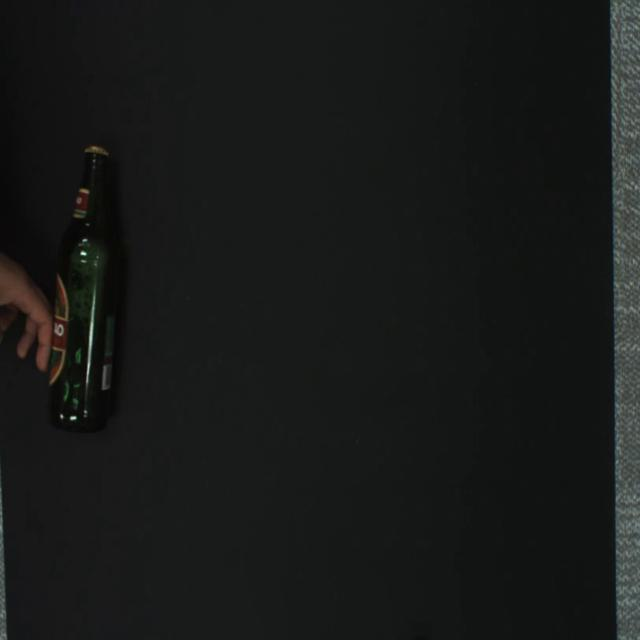beer-bottle: (46, 144, 123, 433)
